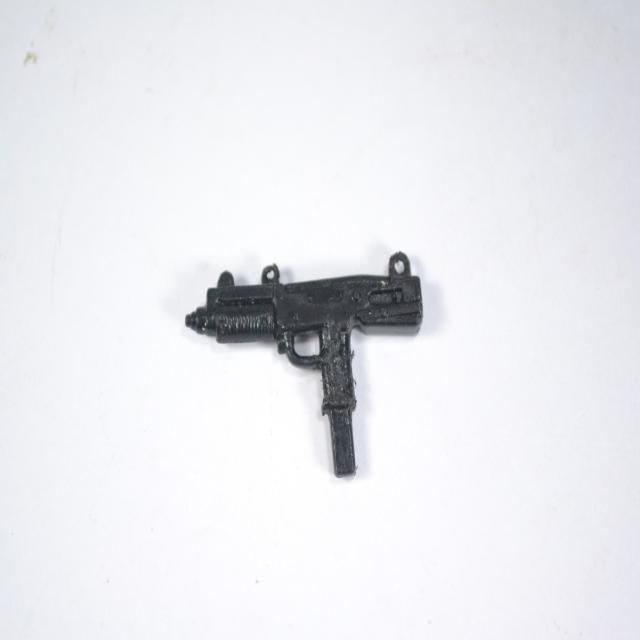Gun: (186, 252, 422, 476)
